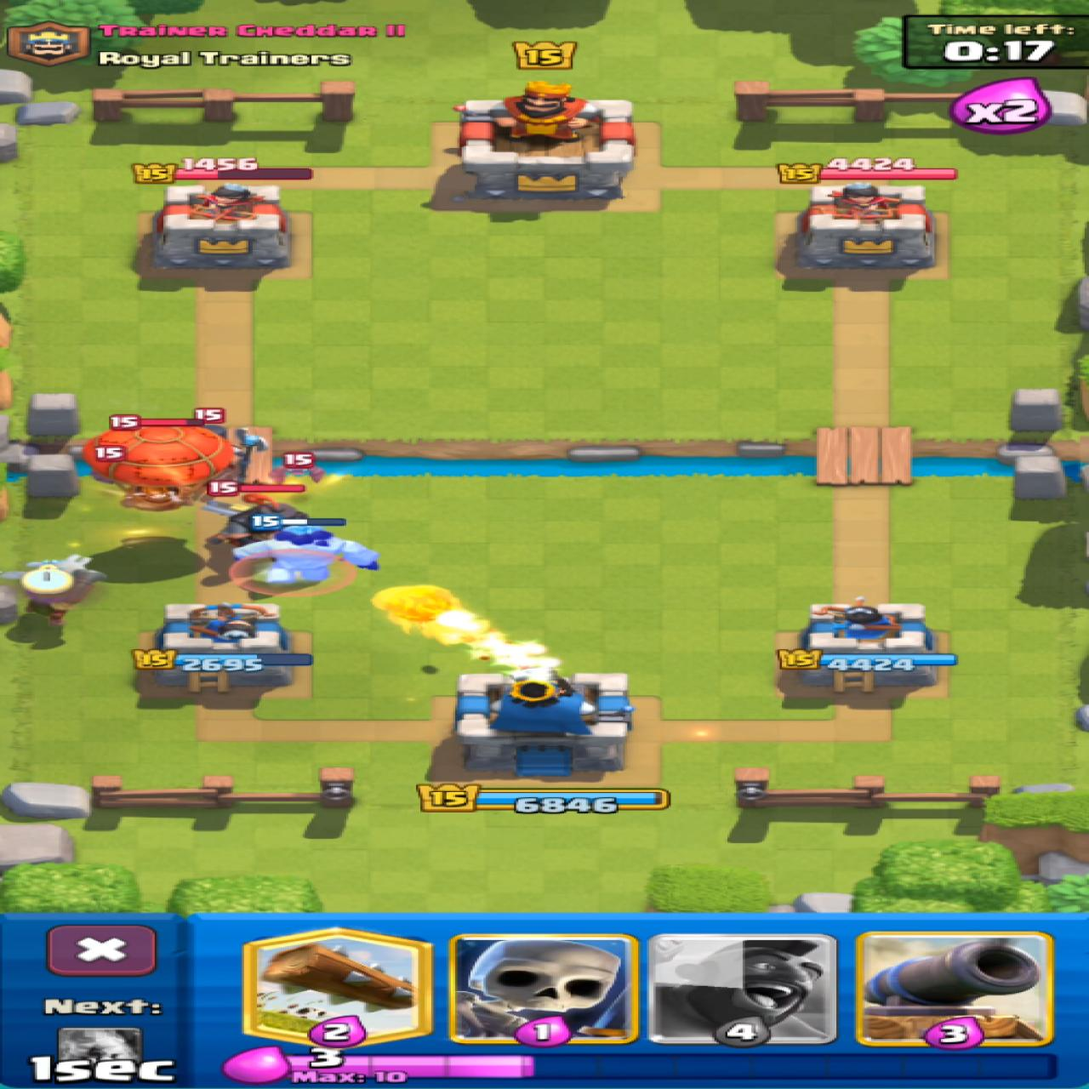Enemy-Balloon: (83, 415, 233, 511)
Enemy-Bat: (272, 454, 325, 482), (96, 445, 124, 463), (91, 471, 107, 483)
Enemy-DarkPrince: (205, 479, 307, 545)
Enemy-KingTower: (455, 83, 634, 201)
Enemy-NightWitch: (235, 429, 268, 479), (194, 408, 227, 438)
Enemy-PrincessTower: (791, 183, 934, 278), (150, 184, 290, 276)
